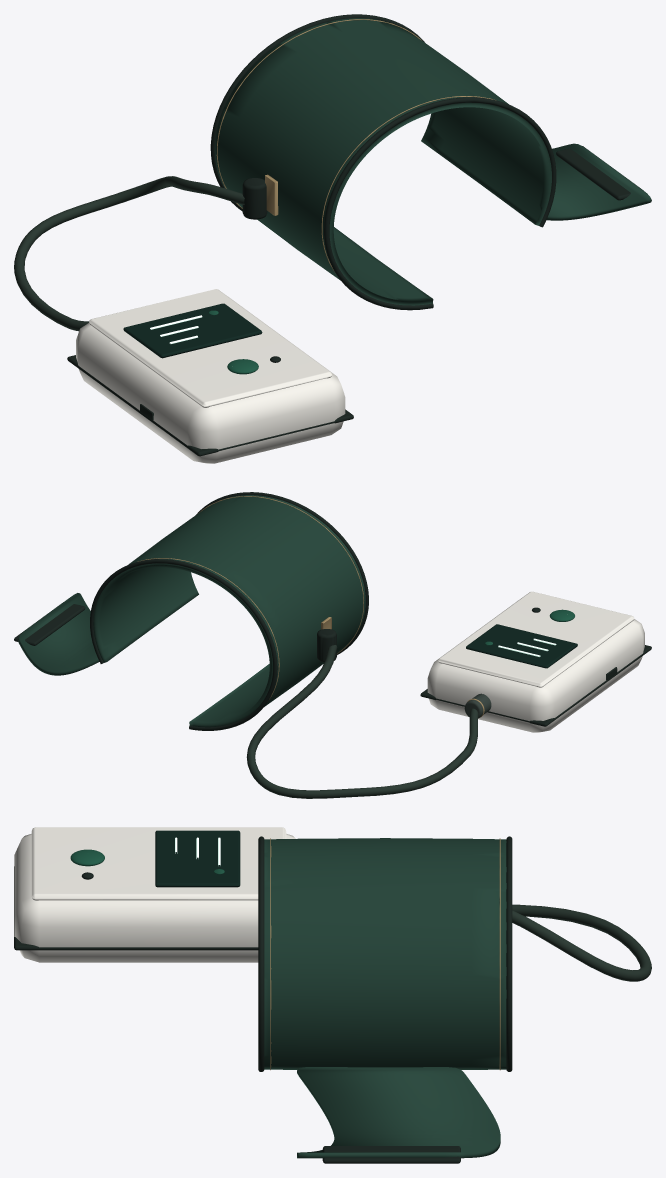
The model's file is service-holter-pressorio-v5-lod.glb.
3 renders of one model, top to bottom at view 1: azimuth 30°, elevation 25°; view 2: azimuth 150°, elevation 25°; view 3: azimuth 270°, elevation 25°, orthographic. The views are drawn at different scales.
Parts seen in each view (by area): view 1: holter-pressorio_Woven_Forest_Green_Cuff_PBR_v4, holter-pressorio_Alabaster_Clinical_Polymer_PBR_v4, holter-pressorio_Soft_Black_Elastomer_PBR_v4, holter-pressorio_Smoked_LCD_Glass_PBR_v4, holter-pressorio_Matte_Pneumatic_Tube_PBR_v4, holter-pressorio_Fine_Satin_Brass_PBR_v4; view 2: holter-pressorio_Woven_Forest_Green_Cuff_PBR_v4, holter-pressorio_Alabaster_Clinical_Polymer_PBR_v4, holter-pressorio_Soft_Black_Elastomer_PBR_v4, holter-pressorio_Matte_Pneumatic_Tube_PBR_v4, holter-pressorio_Smoked_LCD_Glass_PBR_v4, holter-pressorio_Fine_Satin_Brass_PBR_v4; view 3: holter-pressorio_Woven_Forest_Green_Cuff_PBR_v4, holter-pressorio_Alabaster_Clinical_Polymer_PBR_v4, holter-pressorio_Soft_Black_Elastomer_PBR_v4, holter-pressorio_Smoked_LCD_Glass_PBR_v4, holter-pressorio_Matte_Pneumatic_Tube_PBR_v4, holter-pressorio_Fine_Satin_Brass_PBR_v4, holter-pressorio_Forest_Green_Accent_PBR_v4.
Part boxes in pixels (<box>): holter-pressorio_Woven_Forest_Green_Cuff_PBR_v4: <box>214,18,651,305</box>; holter-pressorio_Alabaster_Clinical_Polymer_PBR_v4: <box>76,289,345,463</box>; holter-pressorio_Soft_Black_Elastomer_PBR_v4: <box>67,14,643,456</box>; holter-pressorio_Smoked_LCD_Glass_PBR_v4: <box>123,303,262,358</box>; holter-pressorio_Matte_Pneumatic_Tube_PBR_v4: <box>14,176,244,331</box>; holter-pressorio_Fine_Satin_Brass_PBR_v4: <box>216,19,495,271</box>; holter-pressorio_Woven_Forest_Green_Cuff_PBR_v4: <box>18,495,365,727</box>; holter-pressorio_Alabaster_Clinical_Polymer_PBR_v4: <box>427,591,644,732</box>; holter-pressorio_Soft_Black_Elastomer_PBR_v4: <box>14,492,651,730</box>; holter-pressorio_Matte_Pneumatic_Tube_PBR_v4: <box>246,645,478,798</box>; holter-pressorio_Smoked_LCD_Glass_PBR_v4: <box>466,624,577,668</box>; holter-pressorio_Fine_Satin_Brass_PBR_v4: <box>137,496,484,717</box>; holter-pressorio_Woven_Forest_Green_Cuff_PBR_v4: <box>264,838,506,1158</box>; holter-pressorio_Alabaster_Clinical_Polymer_PBR_v4: <box>14,827,295,962</box>; holter-pressorio_Soft_Black_Elastomer_PBR_v4: <box>14,836,512,1163</box>; holter-pressorio_Smoked_LCD_Glass_PBR_v4: <box>155,830,240,887</box>; holter-pressorio_Matte_Pneumatic_Tube_PBR_v4: <box>512,904,651,981</box>; holter-pressorio_Fine_Satin_Brass_PBR_v4: <box>270,838,500,1070</box>; holter-pressorio_Forest_Green_Accent_PBR_v4: <box>70,849,224,874</box>.
Size of the model in its own units: 3.45 by 1.16 by 2.96.
